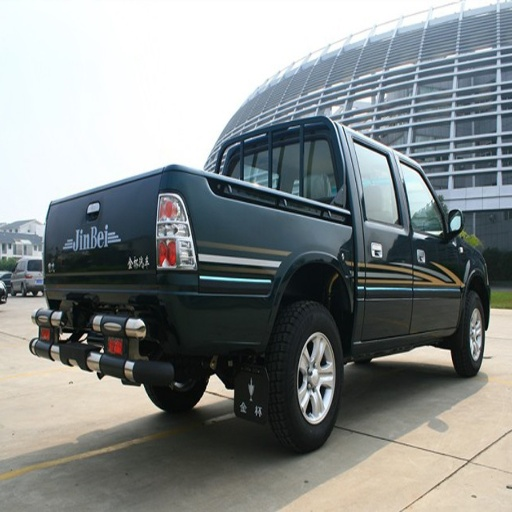back_right_door: (348, 133, 413, 337)
trunk: (97, 220, 346, 349), (115, 199, 149, 265)
